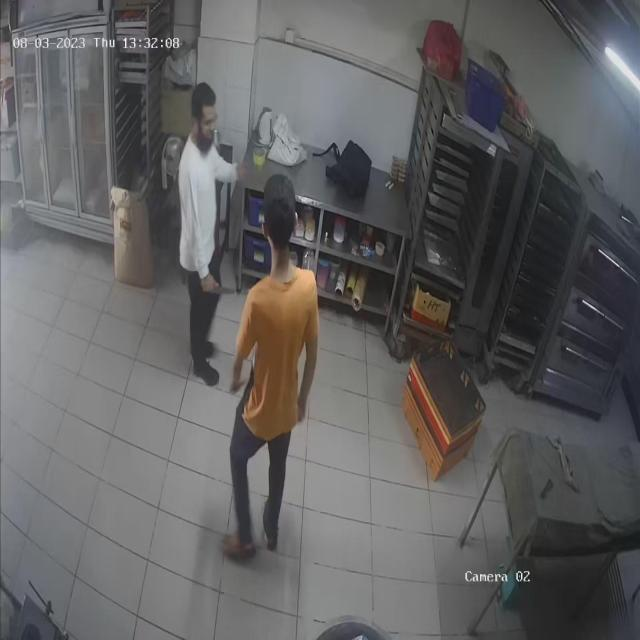Knife: (206, 271, 242, 303)
